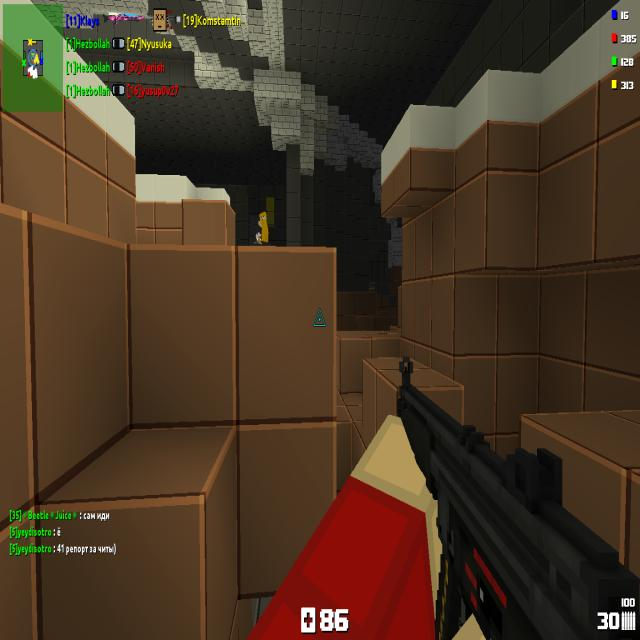enemy: (258, 211, 269, 244), (254, 232, 262, 244)
